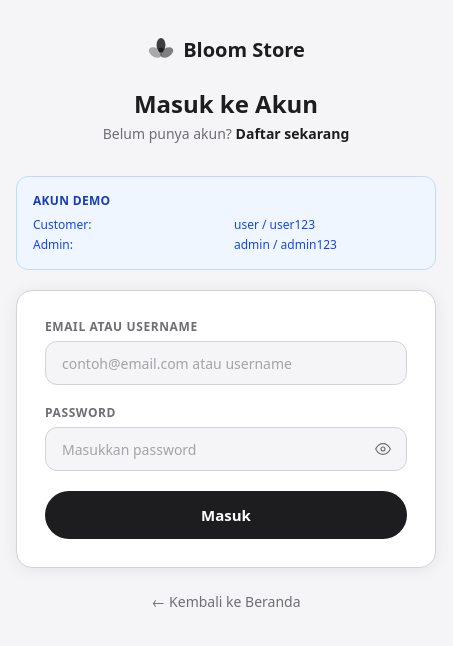
Test: TC-UI: Modul Autentikasi › TC-UI-03: Validasi field — credential wajib diisi
The width and height of the screenshot is (453, 646).
// Klik submit tanpa isi form
Click the submit button at (226, 515), box left=45, top=491, right=407, bottom=539
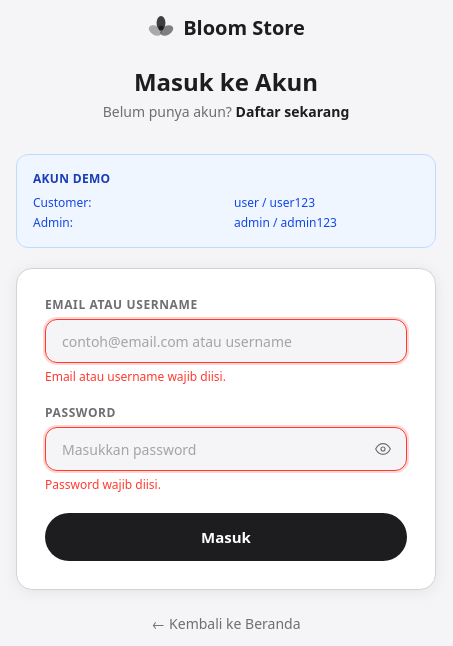
Now the text "Email atau username wajib diisi." is shown, box left=45, top=368, right=226, bottom=385
